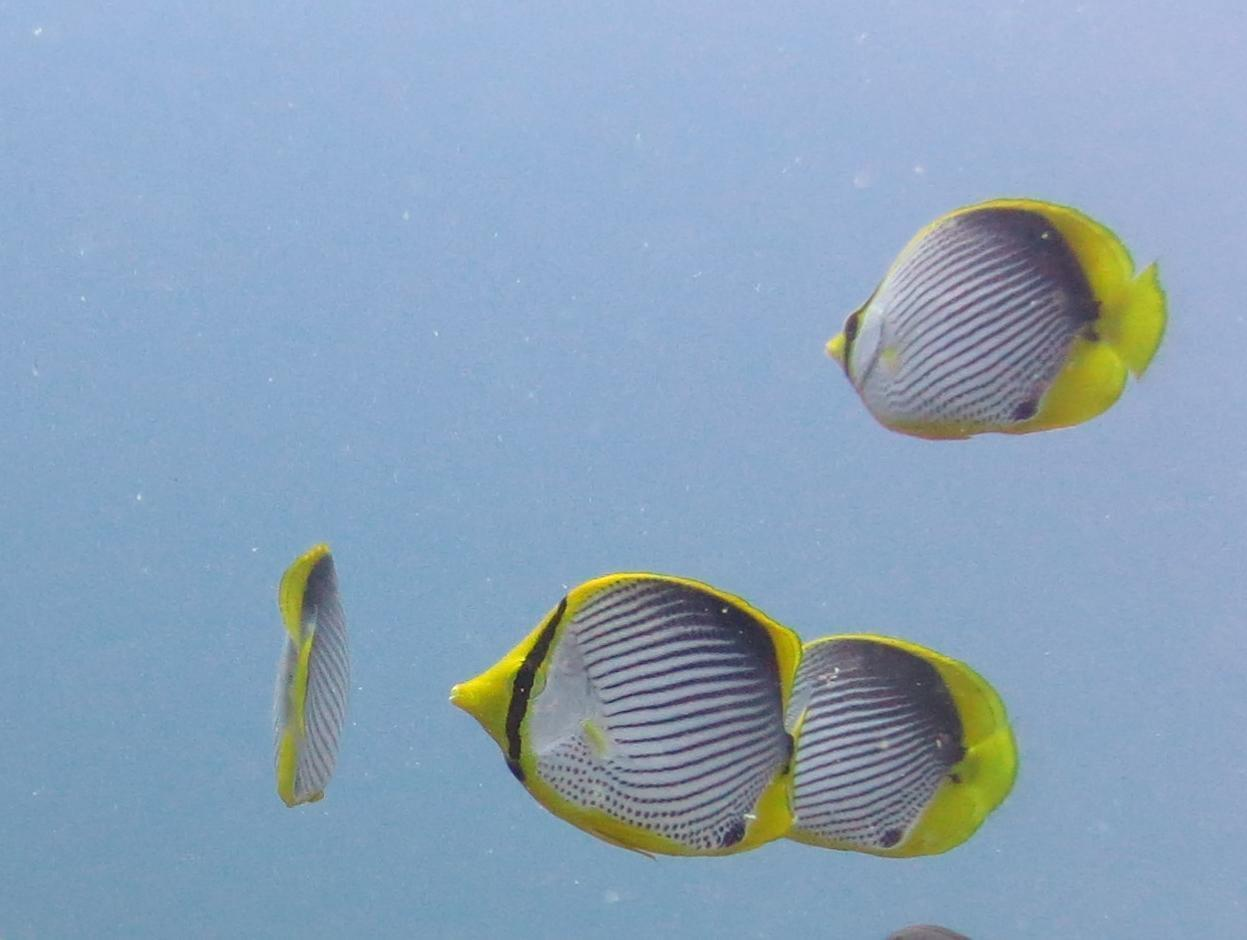Fish: (442, 550, 810, 894), (800, 179, 1204, 454), (203, 516, 412, 832)
